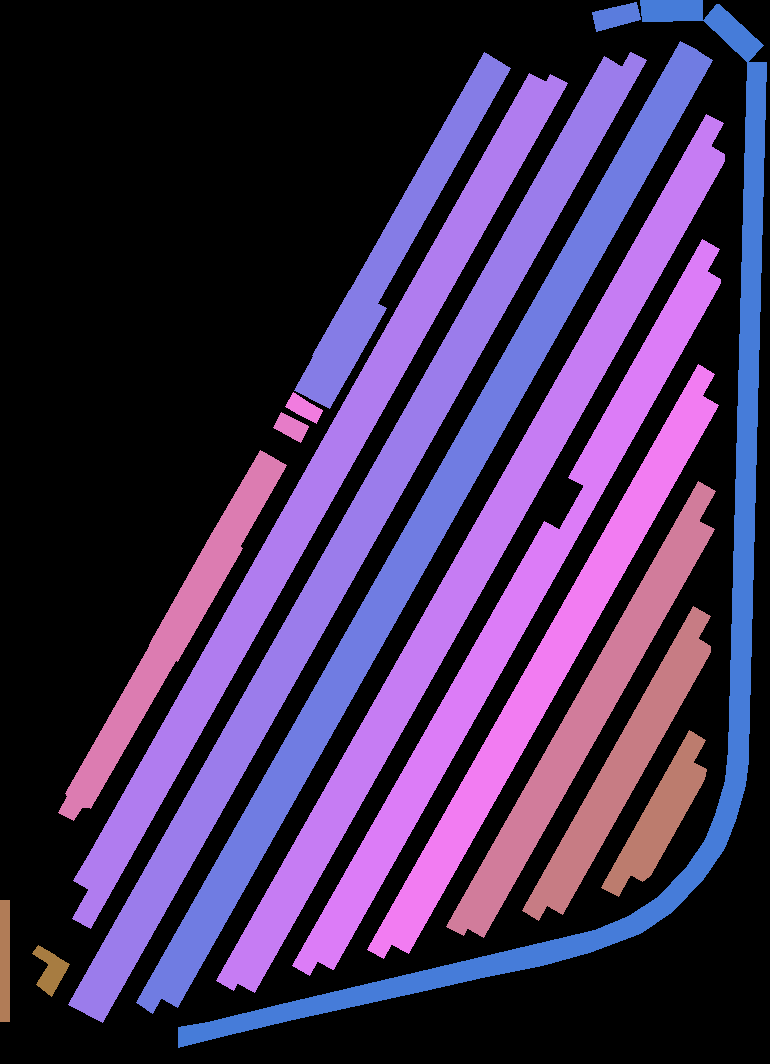parkingspot: (136, 41, 697, 1013), (85, 52, 646, 1022), (68, 56, 622, 1014), (160, 50, 712, 1007), (216, 114, 723, 990), (72, 74, 567, 928), (236, 145, 724, 992), (73, 73, 548, 890), (316, 270, 720, 969), (367, 364, 714, 958), (390, 395, 718, 953), (178, 749, 748, 1047), (446, 481, 715, 935), (292, 521, 560, 975), (466, 520, 714, 937), (522, 606, 710, 920), (545, 637, 710, 914), (349, 52, 510, 305), (568, 239, 719, 486), (728, 62, 766, 752), (58, 644, 176, 820), (601, 730, 705, 896), (149, 532, 228, 654), (164, 540, 242, 661), (628, 762, 706, 881), (211, 450, 286, 549), (327, 298, 386, 375), (312, 290, 366, 364), (703, 4, 763, 62), (309, 363, 349, 408), (294, 356, 328, 398), (592, 2, 640, 31), (36, 955, 69, 996), (640, 0, 702, 21), (0, 900, 9, 1021), (273, 412, 308, 442), (285, 392, 308, 415), (300, 402, 322, 423), (32, 945, 55, 964)
